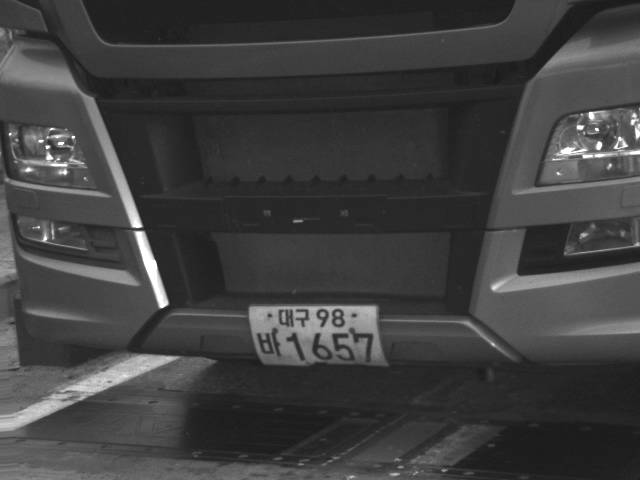car: (1, 1, 639, 372)
plate: (248, 304, 390, 368)
